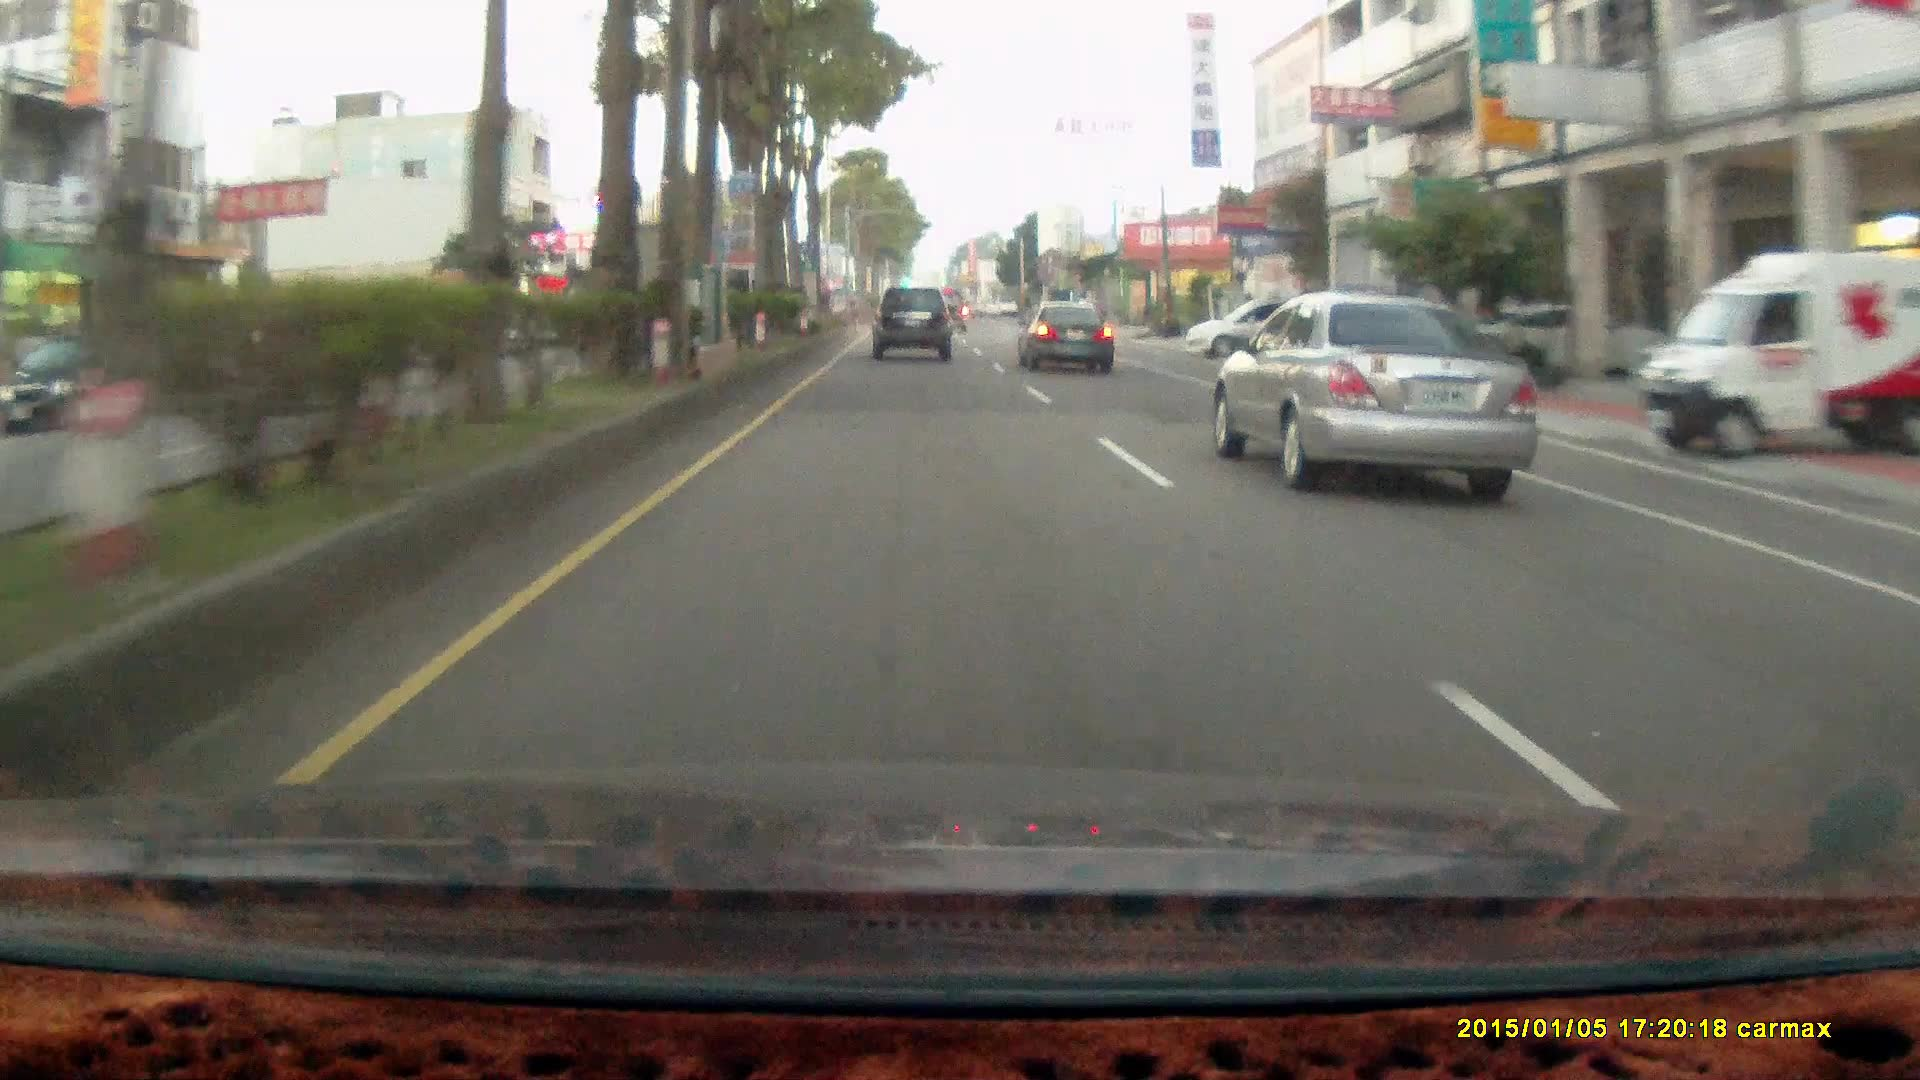vehicle: (1218, 290, 1545, 489), (1640, 251, 1920, 462), (1447, 301, 1668, 380), (0, 334, 164, 435), (1299, 285, 1445, 382), (1183, 297, 1338, 363), (1187, 302, 1345, 367), (1015, 301, 1120, 376), (1015, 298, 1114, 372), (872, 286, 956, 363), (872, 284, 952, 357)
